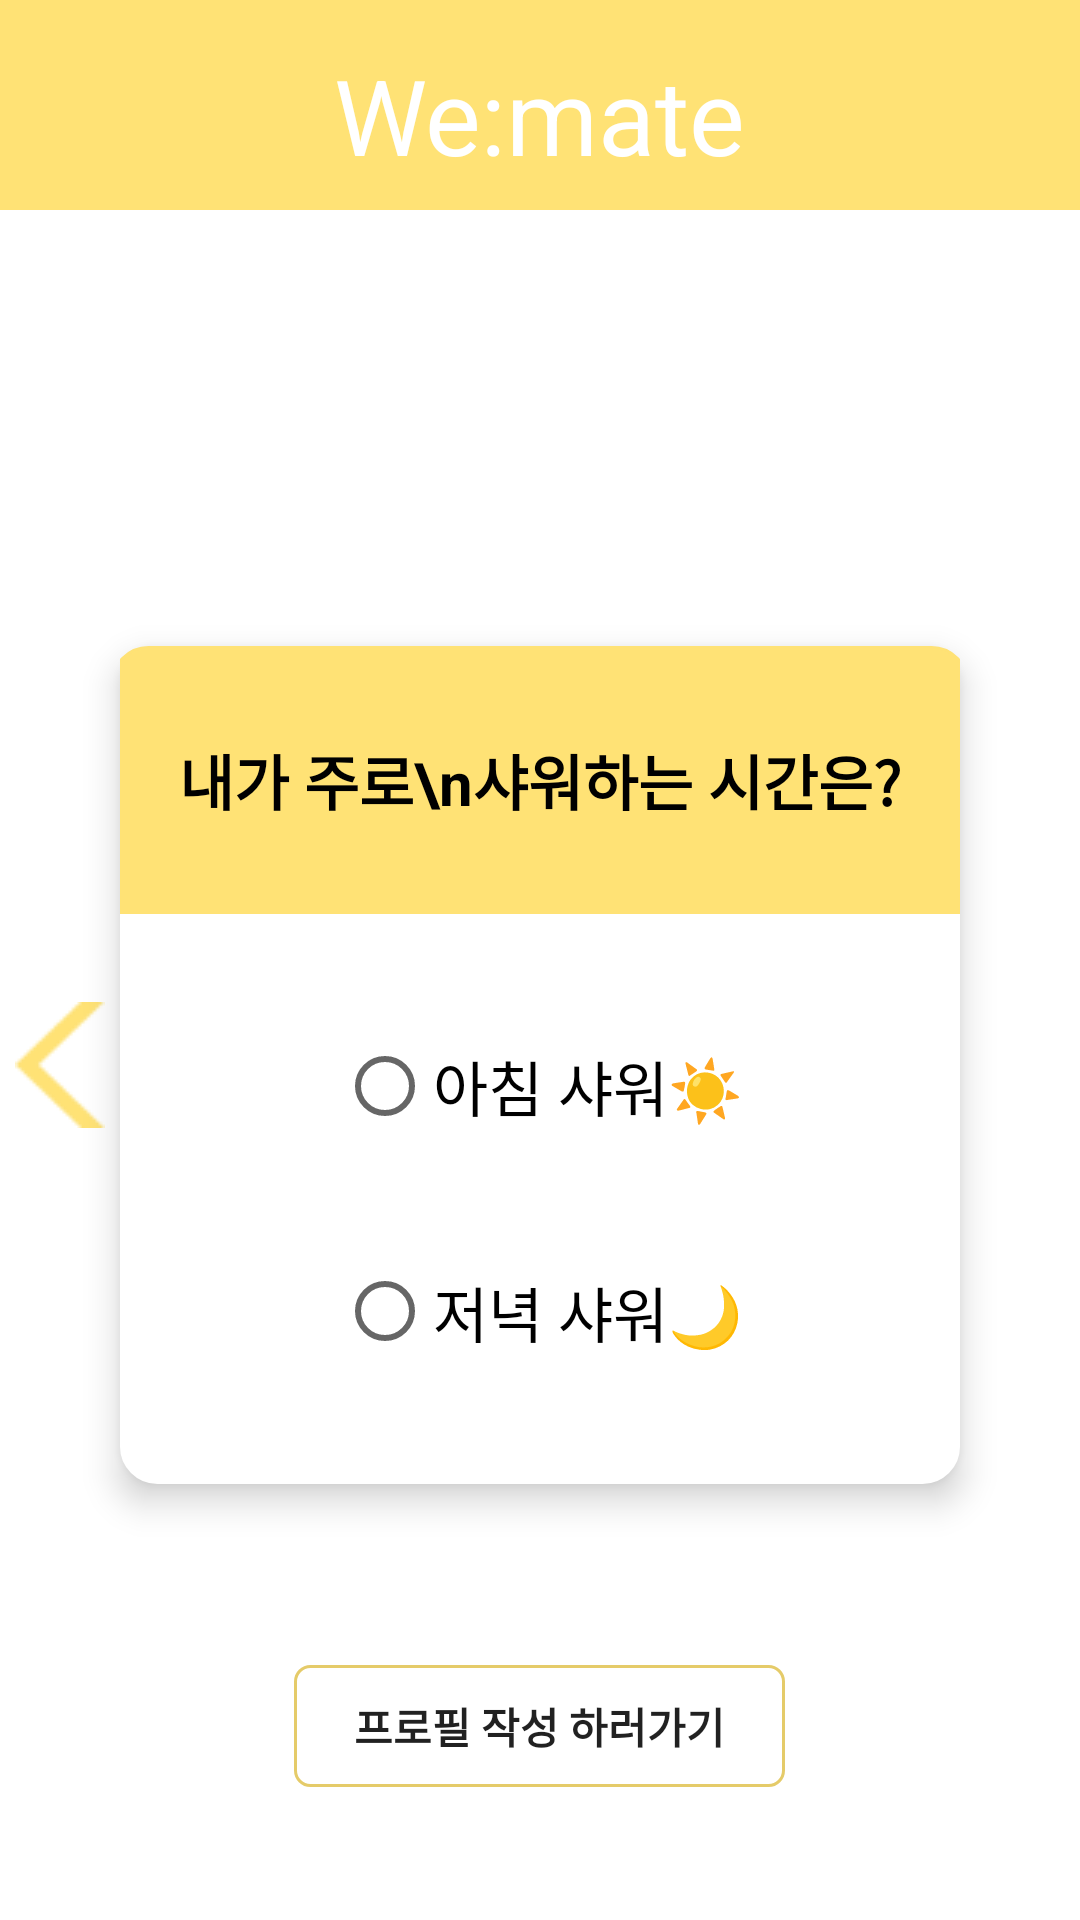

Named icons in this screenshot (1080px×1920px) and their bounding boxes, BBox(x1, y1, x2, y2):
left: BBox(15, 1002, 105, 1128)
